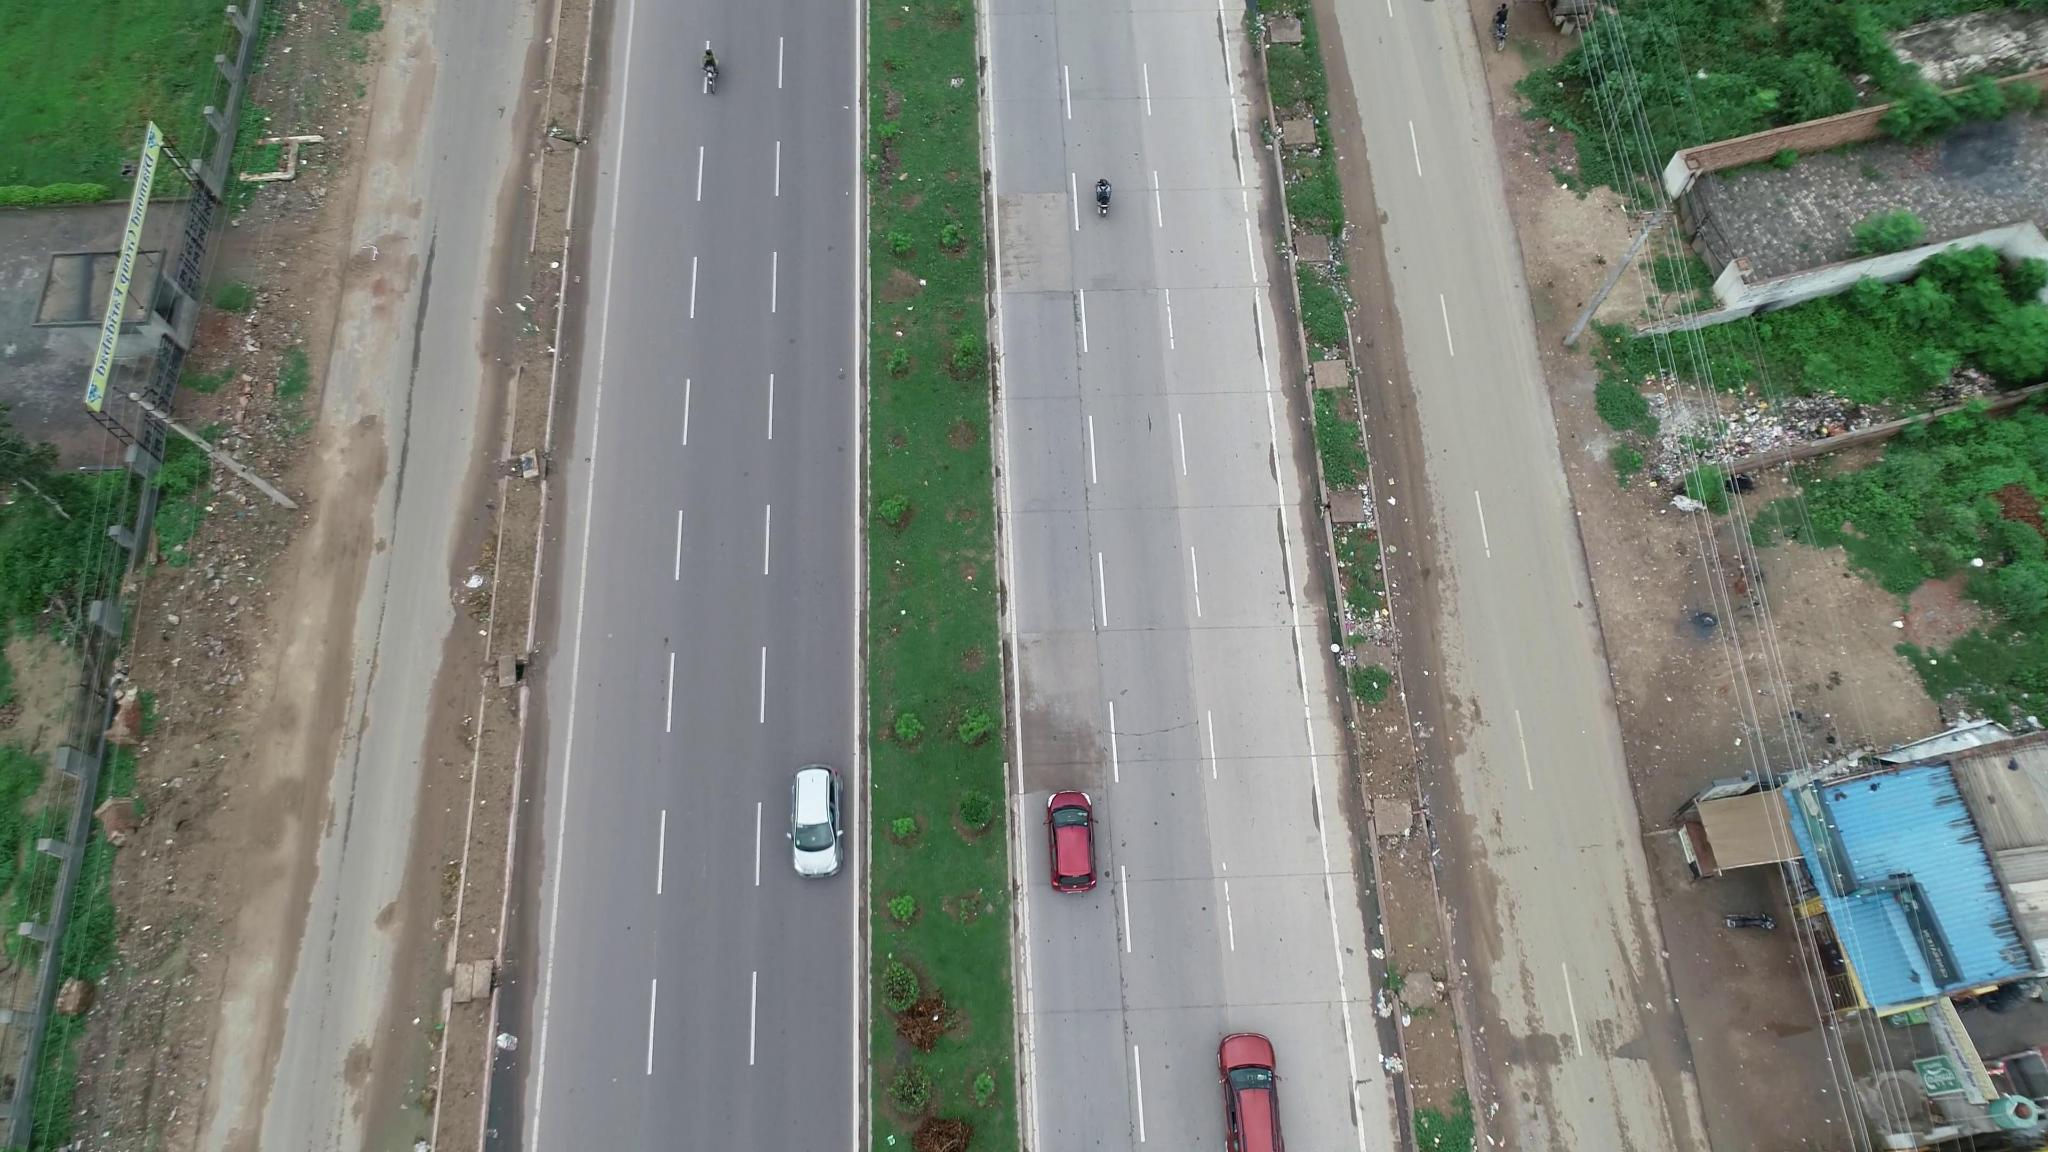Muddy_road: (253, 464, 383, 952)
